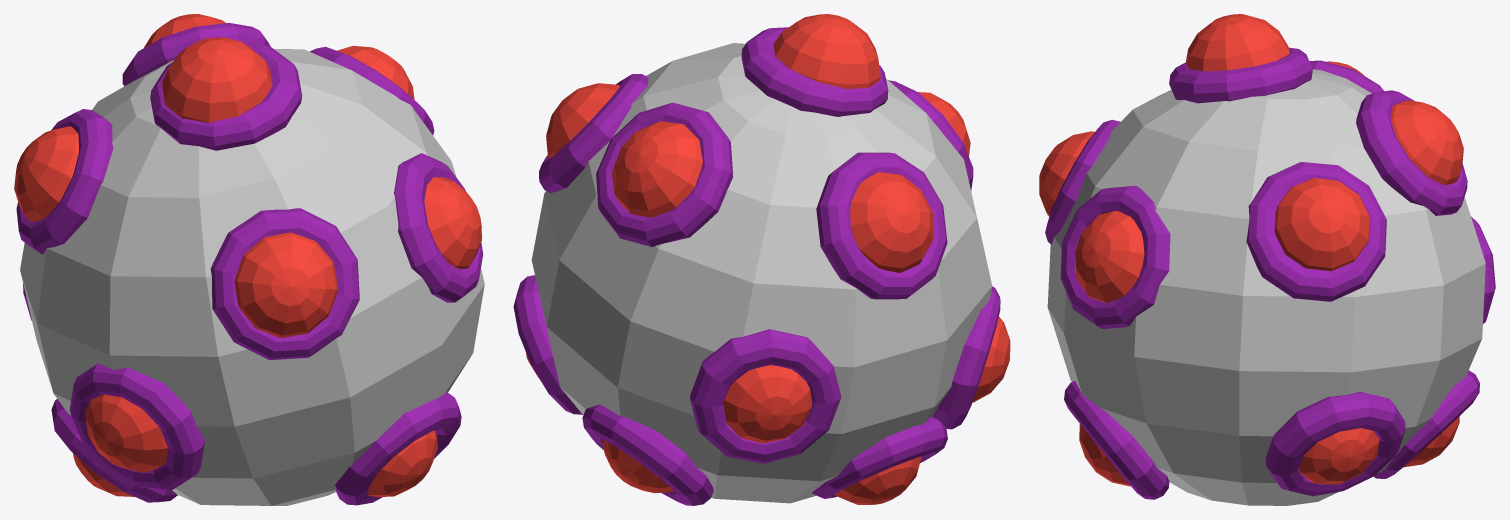
Rendered from mina_fechada.fbx.
3 renders of one model, left to right at view 1: azimuth 30°, elevation 25°; view 2: azimuth 150°, elevation 25°; view 3: azimuth 270°, elevation 25°, orthographic. The views are drawn at different scales.
Visible parts, largest first — view 1: group_1222544329; view 2: group_1222544329; view 3: group_1222544329.
Part boxes in pixels (left/top/right/bottom): group_1222544329: left=14, top=14, right=484, bottom=505; group_1222544329: left=513, top=14, right=1010, bottom=505; group_1222544329: left=1039, top=14, right=1495, bottom=505.
Size of the model in its own units: 12.3 by 13.26 by 12.37.
